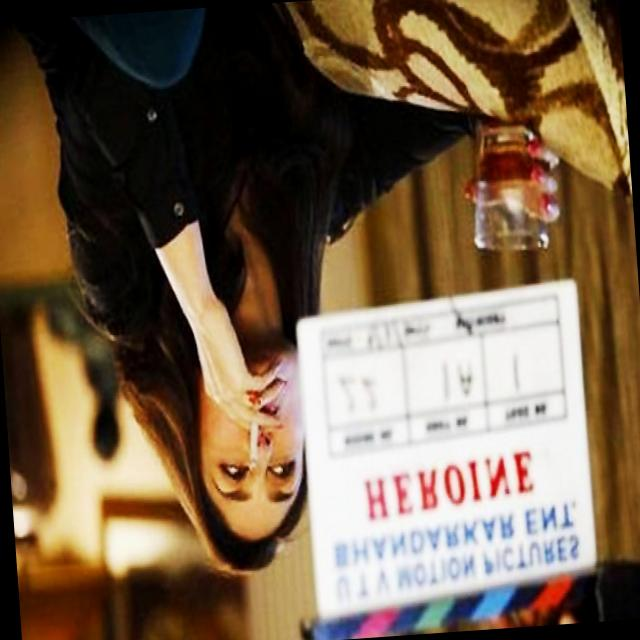smoke: (238, 410, 267, 484)
